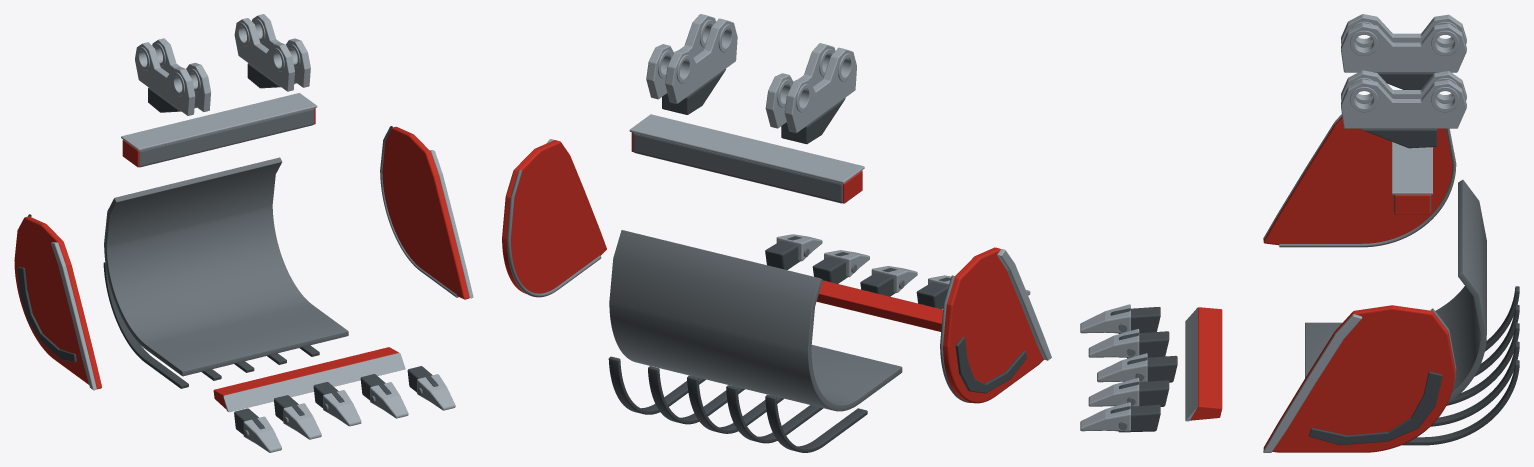
File: rexard-bucket.glb
3 renders of one model, left to right at view 1: azimuth 30°, elevation 25°; view 2: azimuth 150°, elevation 25°; view 3: azimuth 270°, elevation 25°, orthographic. The views are drawn at different scales.
Visible parts, largest first — view 1: P01 | Rolled shell / 90 mm illustrative thickness, P02R | Solid cheek plate, P02L | Solid cheek plate, P09 | Cross-member upper cap, P15 | Ground lip bevel, P08 | Top box cross-member, P11.01 | Attachment lug / pierced, P11.03 | Attachment lug / pierced, P14 | Replaceable base cutting edge, P03L | Replaceable side cutter, P07.01 | Curved wear runner, P11.02 | Attachment lug / pierced (+9 smaller); view 2: P01 | Rolled shell / 90 mm illustrative thickness, P02R | Solid cheek plate, P02L | Solid cheek plate, P09 | Cross-member upper cap, P08 | Top box cross-member, P14 | Replaceable base cutting edge, P11.03 | Attachment lug / pierced, P11.01 | Attachment lug / pierced, P07.01 | Curved wear runner, P11.02 | Attachment lug / pierced, P11.04 | Attachment lug / pierced, P07.02 | Curved wear runner (+12 smaller); view 3: P02R | Solid cheek plate, P02L | Solid cheek plate, P01 | Rolled shell / 90 mm illustrative thickness, P11.02 | Attachment lug / pierced, P11.04 | Attachment lug / pierced, P14 | Replaceable base cutting edge, P04R | Outer wear cheek, P09 | Cross-member upper cap, P03R | Replaceable side cutter, P15 | Ground lip bevel, P07.05 | Curved wear runner, P11.01 | Attachment lug / pierced (+19 smaller).
Part boxes in pixels (x1=…): P01 | Rolled shell / 90 mm illustrative thickness: x1=104, y1=157, x2=348, y2=376; P02R | Solid cheek plate: x1=382, y1=126, x2=469, y2=299; P02L | Solid cheek plate: x1=14, y1=216, x2=101, y2=389; P09 | Cross-member upper cap: x1=121, y1=93, x2=317, y2=150; P15 | Ground lip bevel: x1=223, y1=353, x2=405, y2=412; P08 | Top box cross-member: x1=139, y1=108, x2=314, y2=167; P11.01 | Attachment lug / pierced: x1=135, y1=42, x2=195, y2=115; P11.03 | Attachment lug / pierced: x1=234, y1=18, x2=294, y2=91; P14 | Replaceable base cutting edge: x1=213, y1=347, x2=398, y2=409; P03L | Replaceable side cutter: x1=51, y1=242, x2=96, y2=390; P07.01 | Curved wear runner: x1=103, y1=262, x2=188, y2=388; P11.02 | Attachment lug / pierced: x1=152, y1=38, x2=210, y2=111; P01 | Rolled shell / 90 mm illustrative thickness: x1=609, y1=230, x2=902, y2=411; P02R | Solid cheek plate: x1=502, y1=140, x2=606, y2=293; P02L | Solid cheek plate: x1=943, y1=247, x2=1043, y2=403; P09 | Cross-member upper cap: x1=629, y1=114, x2=864, y2=183; P08 | Top box cross-member: x1=633, y1=132, x2=842, y2=203; P14 | Replaceable base cutting edge: x1=816, y1=280, x2=942, y2=331; P11.03 | Attachment lug / pierced: x1=665, y1=18, x2=737, y2=103; P11.01 | Attachment lug / pierced: x1=784, y1=47, x2=856, y2=132; P07.01 | Curved wear runner: x1=765, y1=394, x2=867, y2=452; P11.02 | Attachment lug / pierced: x1=765, y1=43, x2=835, y2=128; P11.04 | Attachment lug / pierced: x1=646, y1=14, x2=715, y2=99; P07.02 | Curved wear runner: x1=726, y1=385, x2=823, y2=443; P02R | Solid cheek plate: x1=1263, y1=305, x2=1455, y2=452; P02L | Solid cheek plate: x1=1263, y1=116, x2=1452, y2=245; P01 | Rolled shell / 90 mm illustrative thickness: x1=1305, y1=179, x2=1486, y2=403; P11.02 | Attachment lug / pierced: x1=1341, y1=23, x2=1466, y2=72; P11.04 | Attachment lug / pierced: x1=1341, y1=79, x2=1466, y2=128; P14 | Replaceable base cutting edge: x1=1190, y1=307, x2=1222, y2=420; P04R | Outer wear cheek: x1=1309, y1=371, x2=1442, y2=445; P09 | Cross-member upper cap: x1=1392, y1=142, x2=1432, y2=194; P03R | Replaceable side cutter: x1=1263, y1=314, x2=1362, y2=452; P15 | Ground lip bevel: x1=1185, y1=307, x2=1197, y2=421; P07.05 | Curved wear runner: x1=1402, y1=360, x2=1519, y2=445; P11.01 | Attachment lug / pierced: x1=1341, y1=14, x2=1466, y2=47.
Size of the model in its own units: 6.53 by 5.08 by 5.64.
